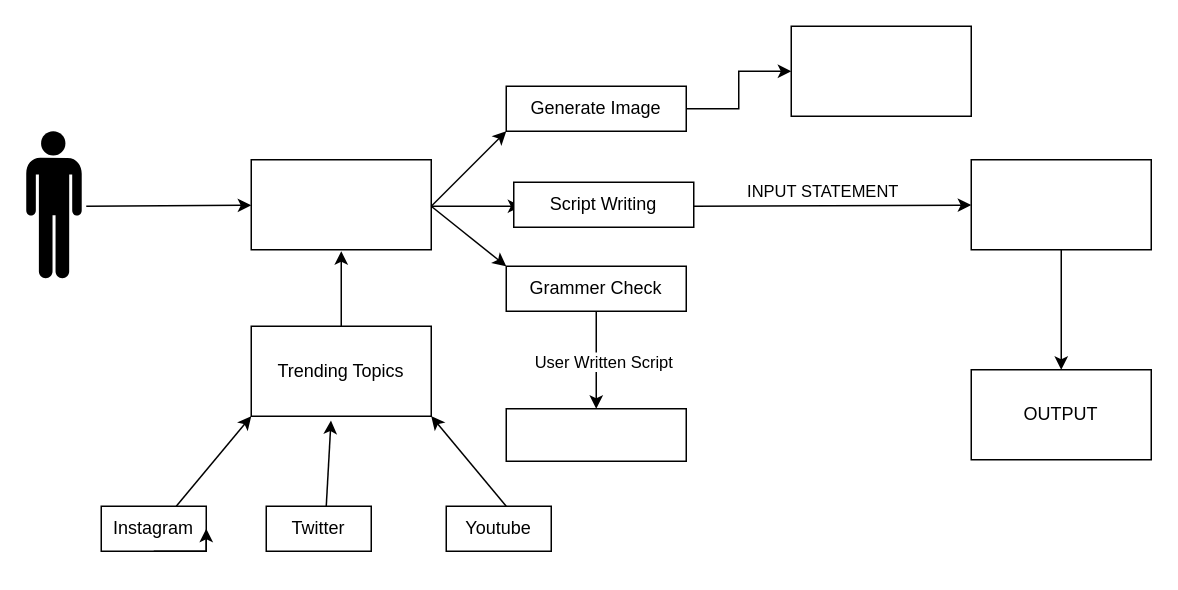
The diagram is 1178 pixels wide and 590 high, and some of its shapes have lost their labels. The centre of each missing label's shape, as x and y in pixels:
Chat GPT API: the point at 1060,204
Corrected Script: the point at 595,434
IMAGE (Acc to User Input): the point at 880,70
Open "ScriptHelper": the point at 340,204
